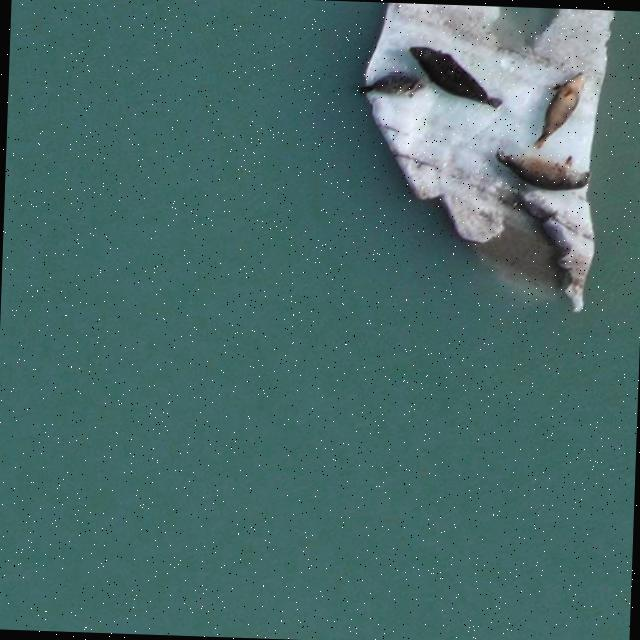seal: (400, 31, 503, 128), (520, 62, 593, 155), (492, 147, 592, 193), (359, 71, 424, 99)
